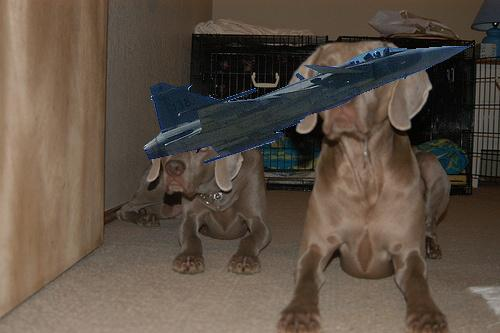tampered: (144, 45, 475, 163)
